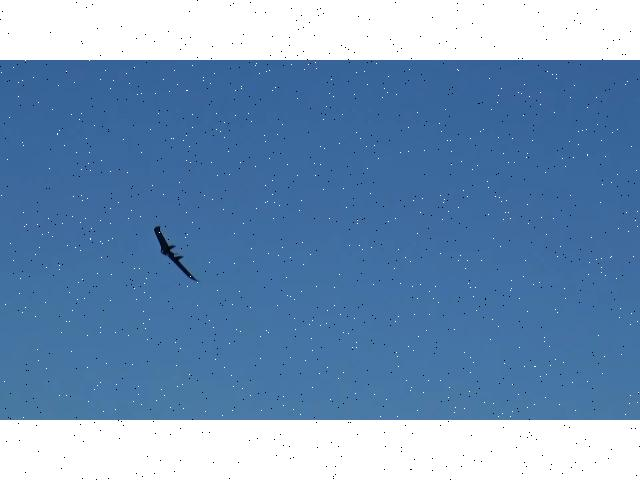Anti-Drone: (144, 212, 210, 290)
